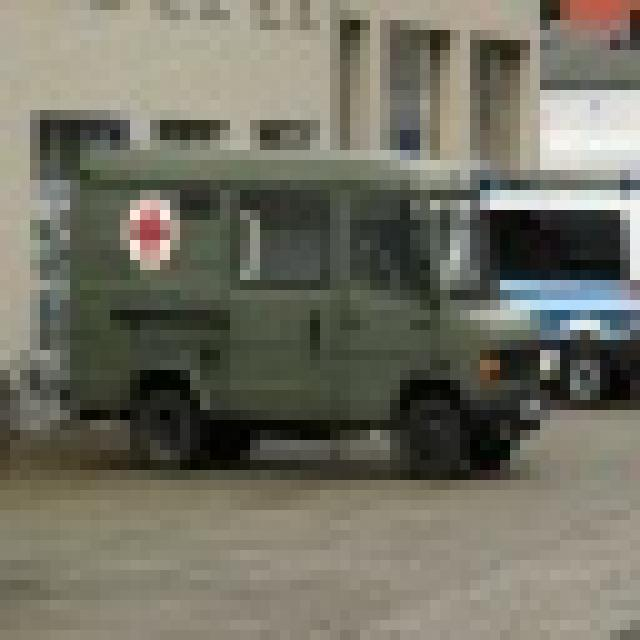ambulance: (60, 140, 540, 470)
